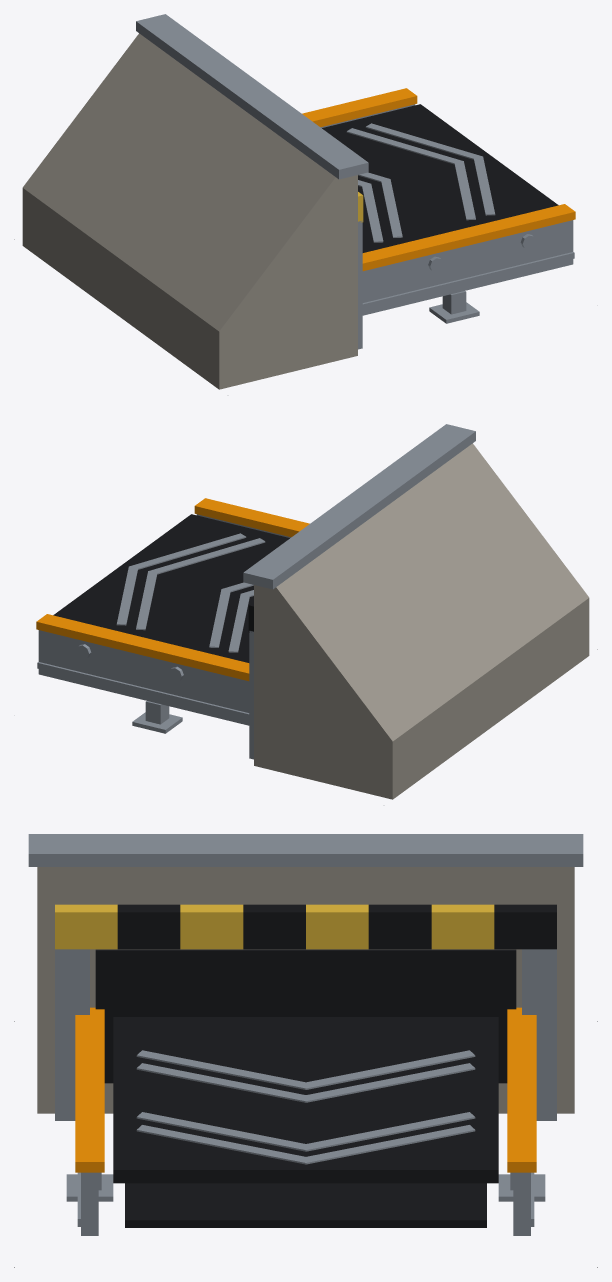
Rendered from convoyeur_tunnel_sortie_t2.glb.
The picture shows the model from 3 angles, top to bottom: view 1: azimuth 30°, elevation 25°; view 2: azimuth 150°, elevation 25°; view 3: azimuth 270°, elevation 25°; orthographic projection. The views are drawn at different scales.
Parts seen in each view (by area): view 1: bouche.012, pieces_acier.054, pieces_noir.030, pieces_rive_t2.006, bande_acier.048; view 2: bouche.012, pieces_acier.054, pieces_noir.030, pieces_rive_t2.006, bande_acier.048; view 3: pieces_noir.030, pieces_acier.054, bouche.012, pieces_jaune.024, bande_acier.048, pieces_rive_t2.006.
Part boxes in pixels (x1,y1,x2,y2): bouche.012: [22, 33, 357, 389]; pieces_acier.054: [136, 14, 574, 349]; pieces_noir.030: [322, 104, 558, 252]; pieces_rive_t2.006: [302, 88, 575, 271]; bande_acier.048: [346, 123, 495, 242]; bouche.012: [254, 443, 589, 799]; pieces_acier.054: [37, 424, 475, 759]; pieces_noir.030: [53, 514, 289, 662]; pieces_rive_t2.006: [36, 498, 309, 681]; bande_acier.048: [116, 533, 265, 652]; pieces_noir.030: [95, 904, 556, 1227]; pieces_acier.054: [28, 834, 583, 1235]; bouche.012: [37, 867, 574, 1113]; pieces_jaune.024: [55, 904, 494, 949]; bande_acier.048: [136, 1050, 475, 1164]; pieces_rive_t2.006: [75, 1007, 536, 1172].
Bounding box in the file's own units: 1 × 0.5 × 1.
